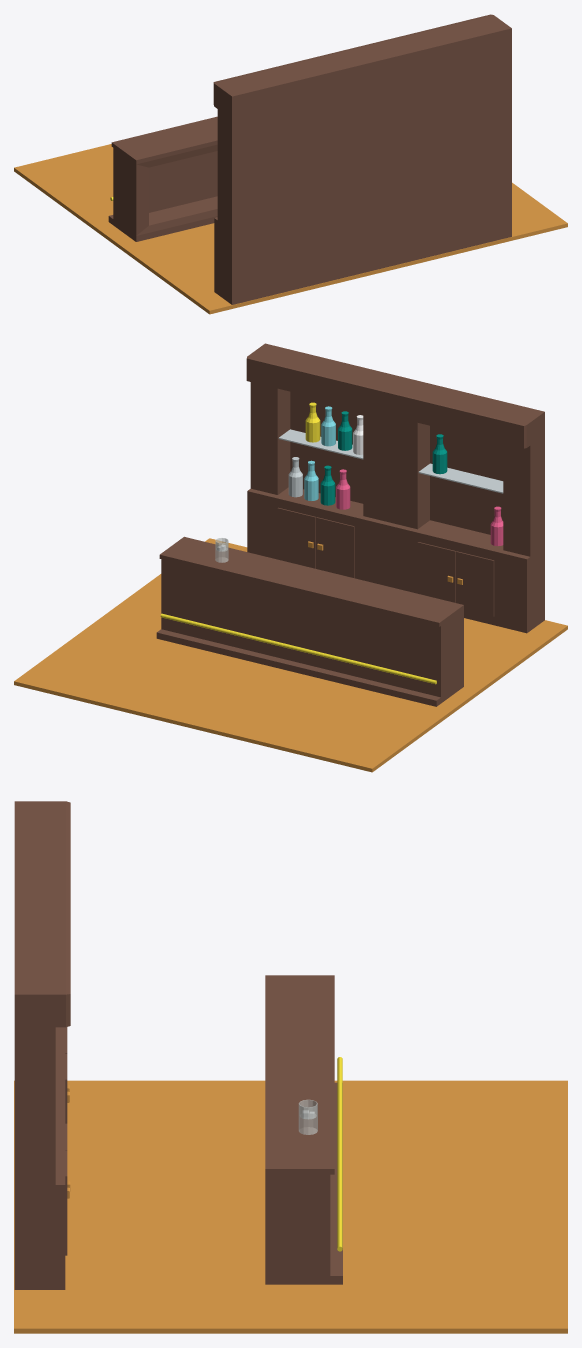
Rendered from bar.glb.
The picture shows the model from 3 angles, top to bottom: view 1: azimuth 30°, elevation 25°; view 2: azimuth 150°, elevation 25°; view 3: azimuth 270°, elevation 25°; orthographic projection. The views are drawn at different scales.
Visible parts, largest first — view 1: group7785952, group1345833870, group1251231928, group761810920, group1428255239, group17861840, group27870691, group470760230; view 2: group1251231928, group761810920, group134078654, group470760230, group7785952, group1428255239, group17861840, group587117627, group27870691, group1341568179, group1230848087, group1345833870 (+8 smaller); view 3: group1251231928, group134078654, group761810920, group17861840, group587117627, group1341568179, group1428255239, group1345833870, group1072627430, group470760230, group853225634.
Part boxes in pixels (x1=…): group7785952: x1=230, y1=61, x2=371, y2=304; group1345833870: x1=370, y1=27, x2=511, y2=270; group1251231928: x1=14, y1=144, x2=567, y2=314; group761810920: x1=108, y1=116, x2=217, y2=241; group1428255239: x1=213, y1=48, x2=369, y2=117; group17861840: x1=353, y1=14, x2=509, y2=60; group27870691: x1=217, y1=109, x2=229, y2=228; group470760230: x1=214, y1=217, x2=229, y2=303; group1251231928: x1=14, y1=538, x2=567, y2=772; group761810920: x1=296, y1=571, x2=463, y2=706; group134078654: x1=156, y1=536, x2=323, y2=672; group470760230: x1=387, y1=520, x2=542, y2=633; group7785952: x1=403, y1=377, x2=544, y2=621; group1428255239: x1=385, y1=379, x2=542, y2=448; group17861840: x1=246, y1=345, x2=402, y2=414; group587117627: x1=247, y1=487, x2=389, y2=585; group27870691: x1=503, y1=436, x2=542, y2=556; group1341568179: x1=250, y1=382, x2=290, y2=494; group1230848087: x1=390, y1=416, x2=429, y2=529; group1345833870: x1=263, y1=343, x2=404, y2=503; group1251231928: x1=14, y1=1080, x2=567, y2=1333; group134078654: x1=265, y1=1072, x2=342, y2=1284; group761810920: x1=265, y1=975, x2=342, y2=1179; group17861840: x1=20, y1=898, x2=70, y2=1027; group587117627: x1=19, y1=1088, x2=65, y2=1289; group1341568179: x1=20, y1=1027, x2=55, y2=1184; group1428255239: x1=19, y1=801, x2=70, y2=898; group1345833870: x1=14, y1=898, x2=20, y2=1289; group1072627430: x1=337, y1=1057, x2=342, y2=1251; group470760230: x1=55, y1=1027, x2=65, y2=1088; group853225634: x1=298, y1=1099, x2=317, y2=1134.
Bounding box in the file's own units: 9.12 × 5.16 × 8.62.
